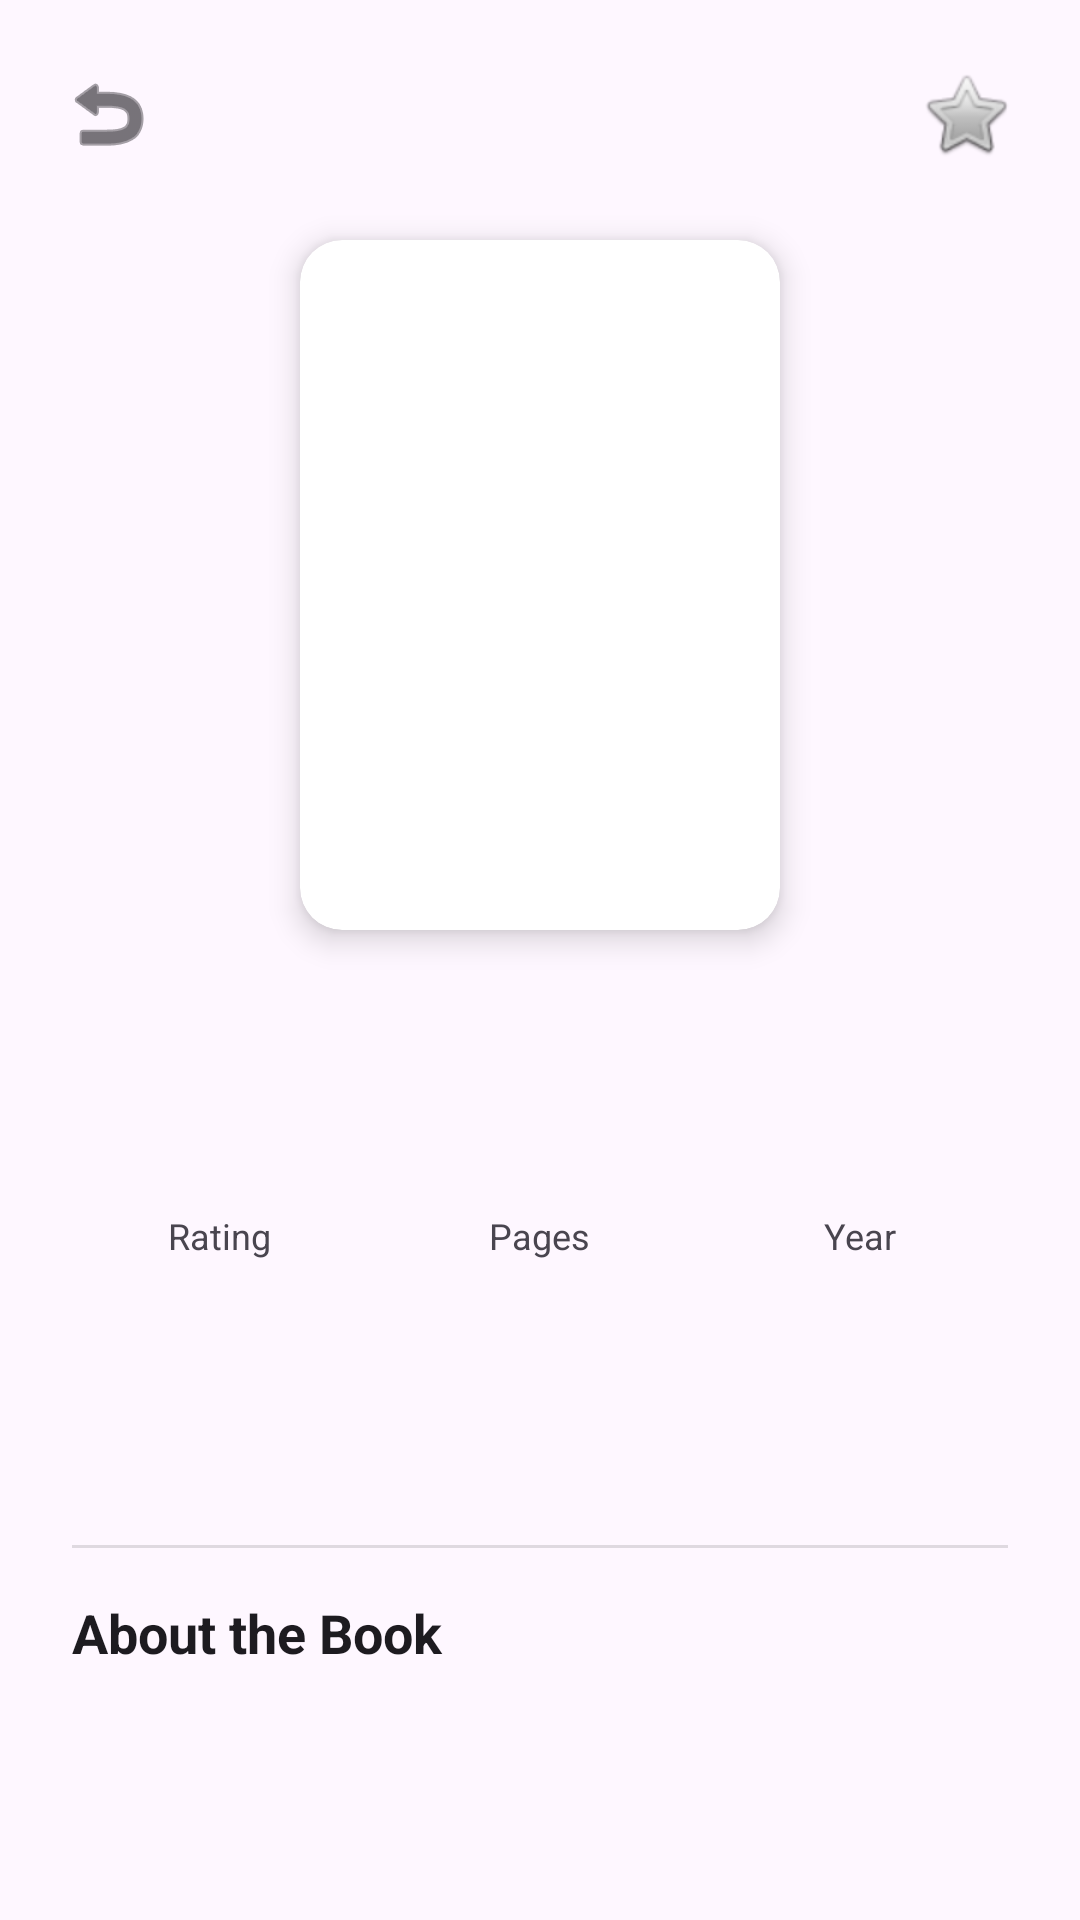

Locate icon controls on the screen. Image size 1080*1920, boxes as (x1, y1, x2, y2).
Back: (75, 83, 144, 146)
Favorite: (927, 76, 1007, 154)
